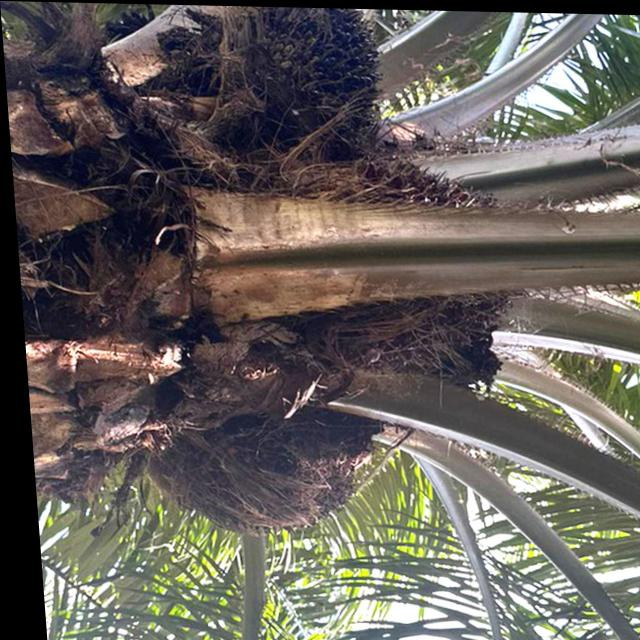ripe: (254, 142, 520, 389)
